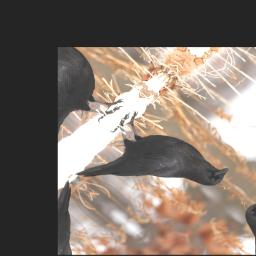Crow: (63, 96, 236, 241)
